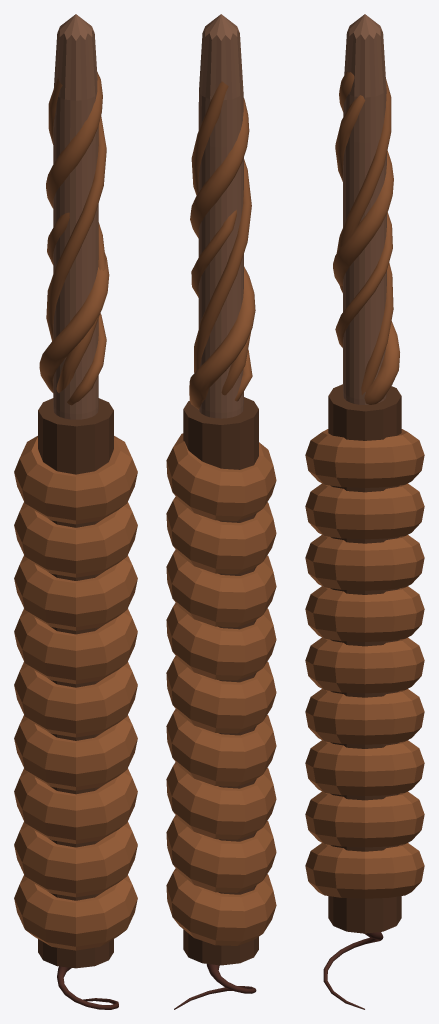
Rendered from Wand 479.glb.
3 views of the same model, side by side, from view 1: azimuth 90°, elevation 25°; view 2: azimuth 150°, elevation 25°; view 3: azimuth 270°, elevation 25° (orthographic). The views are drawn at different scales.
Parts seen in each view (by area): view 1: GeneratedWand; view 2: GeneratedWand; view 3: GeneratedWand.
Boxes of the visible parts, x1,y1,x2,y2 form: GeneratedWand: (14,14,137,1009); GeneratedWand: (166,14,276,1009); GeneratedWand: (305,14,424,1009).
Bounding box in the file's own units: 0.0508 × 0.5233 × 0.0581.
